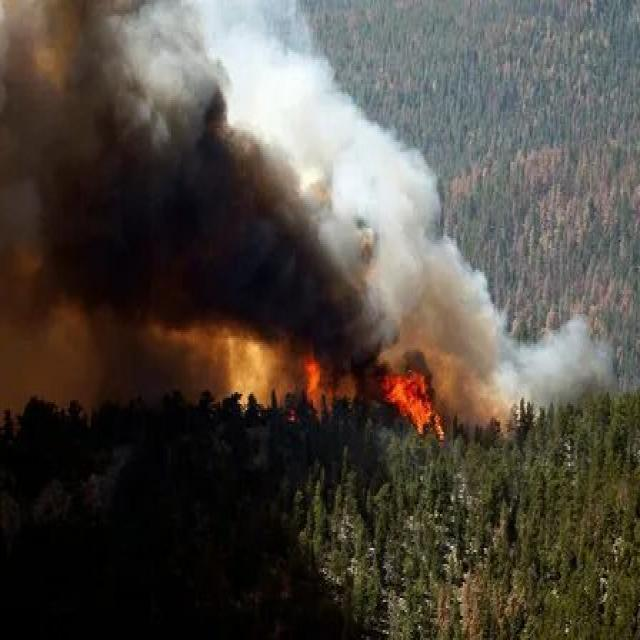Fire: (255, 322, 450, 454)
Smoke: (0, 0, 631, 361)
